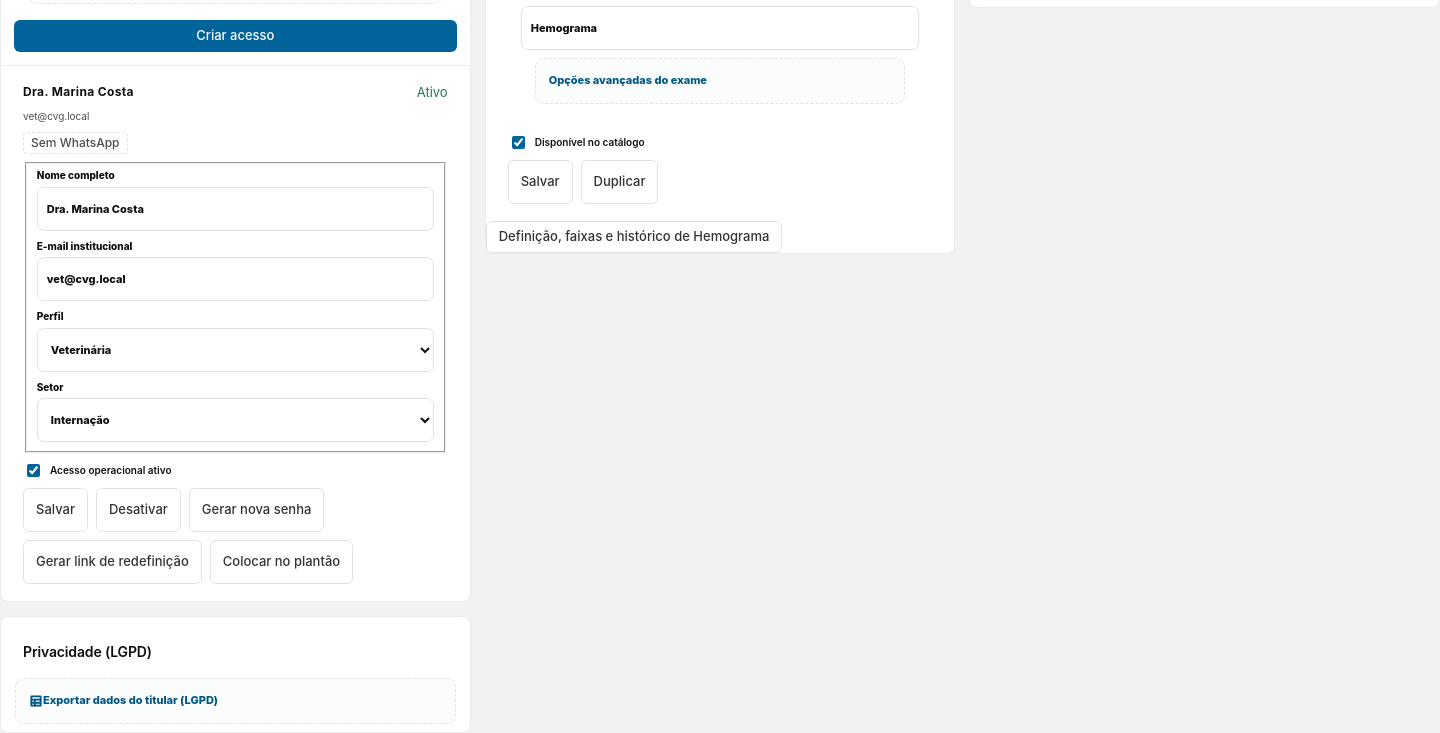
Test: AdminConsole › issues a one-time reset link, shows it once with its expiry and copies it (PROD-202)
(page scrolled)
Expected: the text "Dra. Marina Costa" is shown, [23,83,134,101]
What coordinates should you click on to do the following:
click the button "Gerar link de redefinição"
I would click on:
 (112, 562)
Its box is [23,540,202,584].
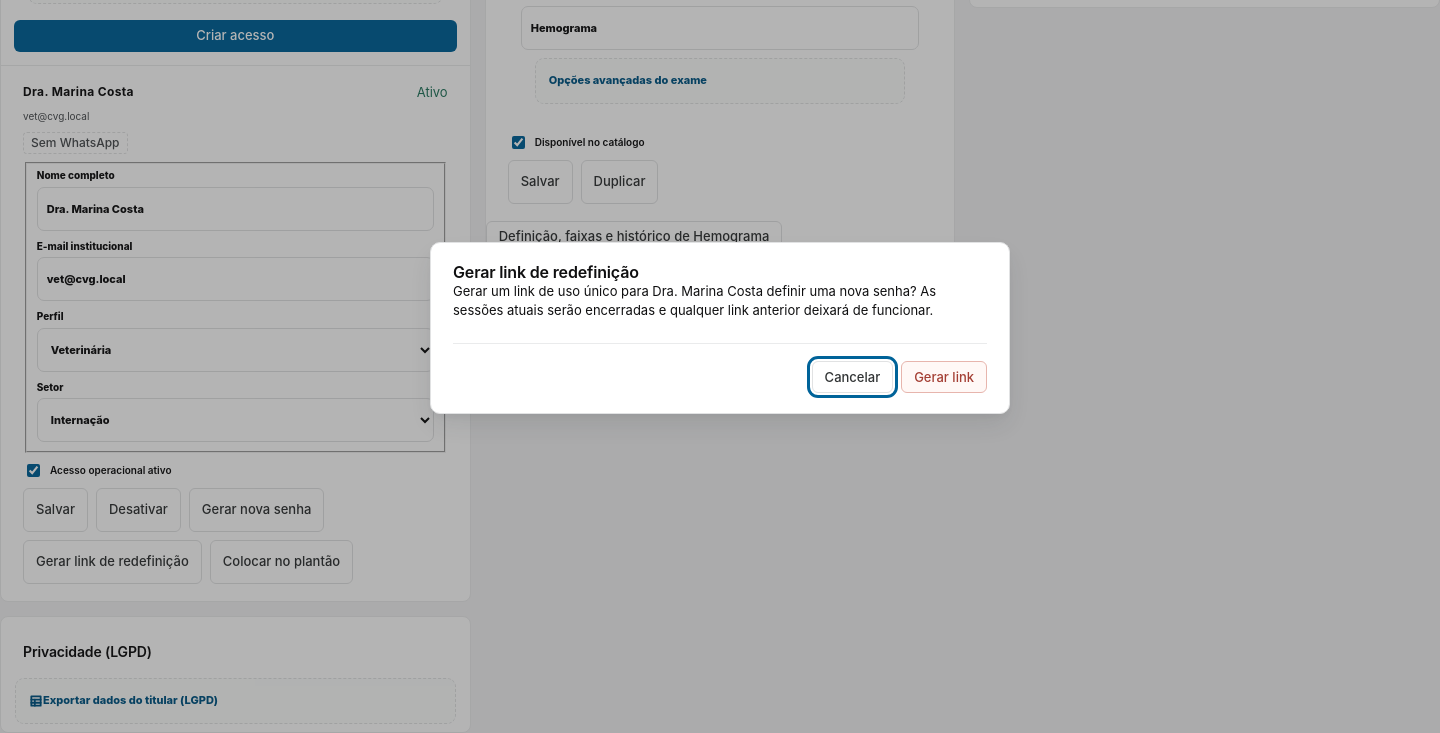
What coordinates should you click on to do the following:
click the button "Gerar link"
I would click on:
 (944, 377)
Its box is [901,361,987,393].
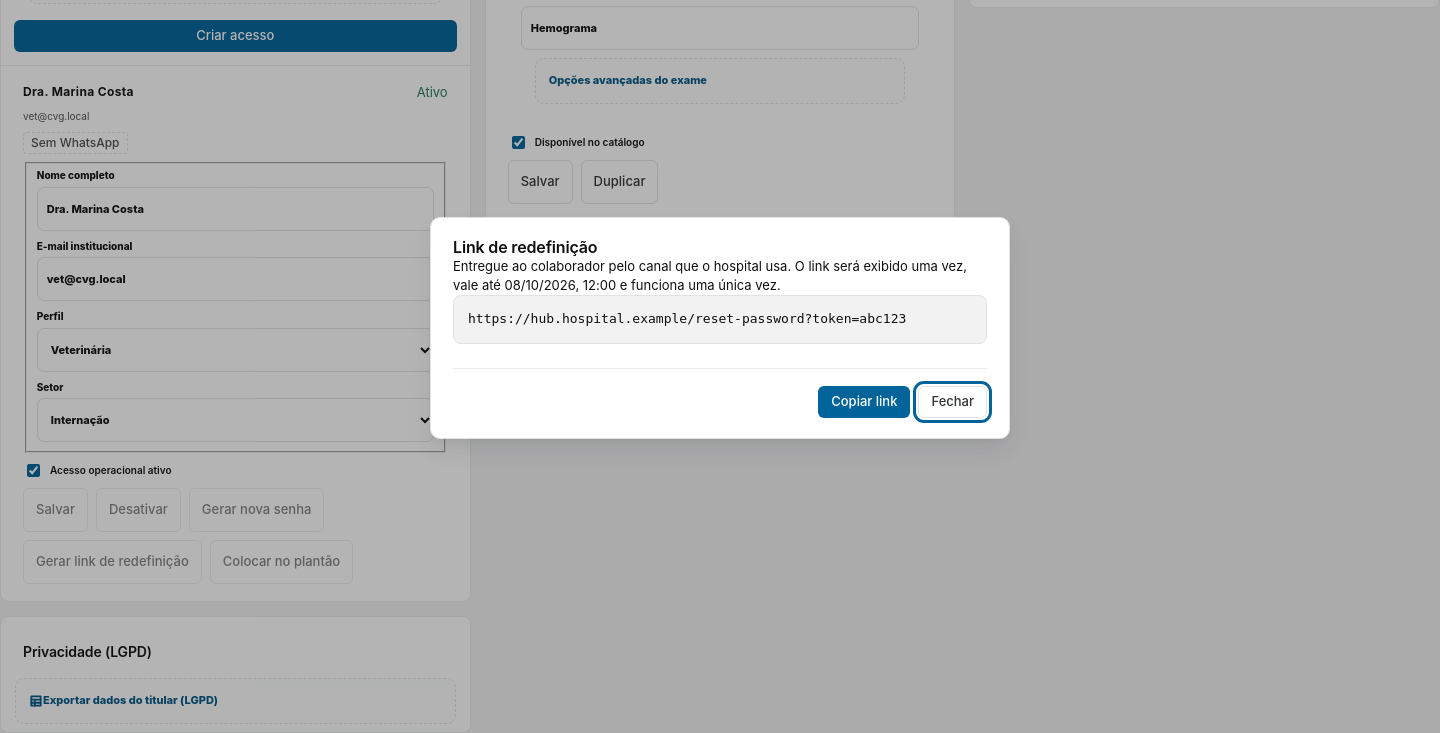
Now the text named "Link de redefinição gerado" reads "https://hub.hospital.example/reset-password?token=abc123", box [468,311,906,326]
Now the dialog "Link de redefinição" shows "uma única vez", box [616,277,781,293]
What coordinates should you click on to do the following:
click the button "Copiar link"
I would click on:
 (864, 402)
Its box is [818,386,910,418].
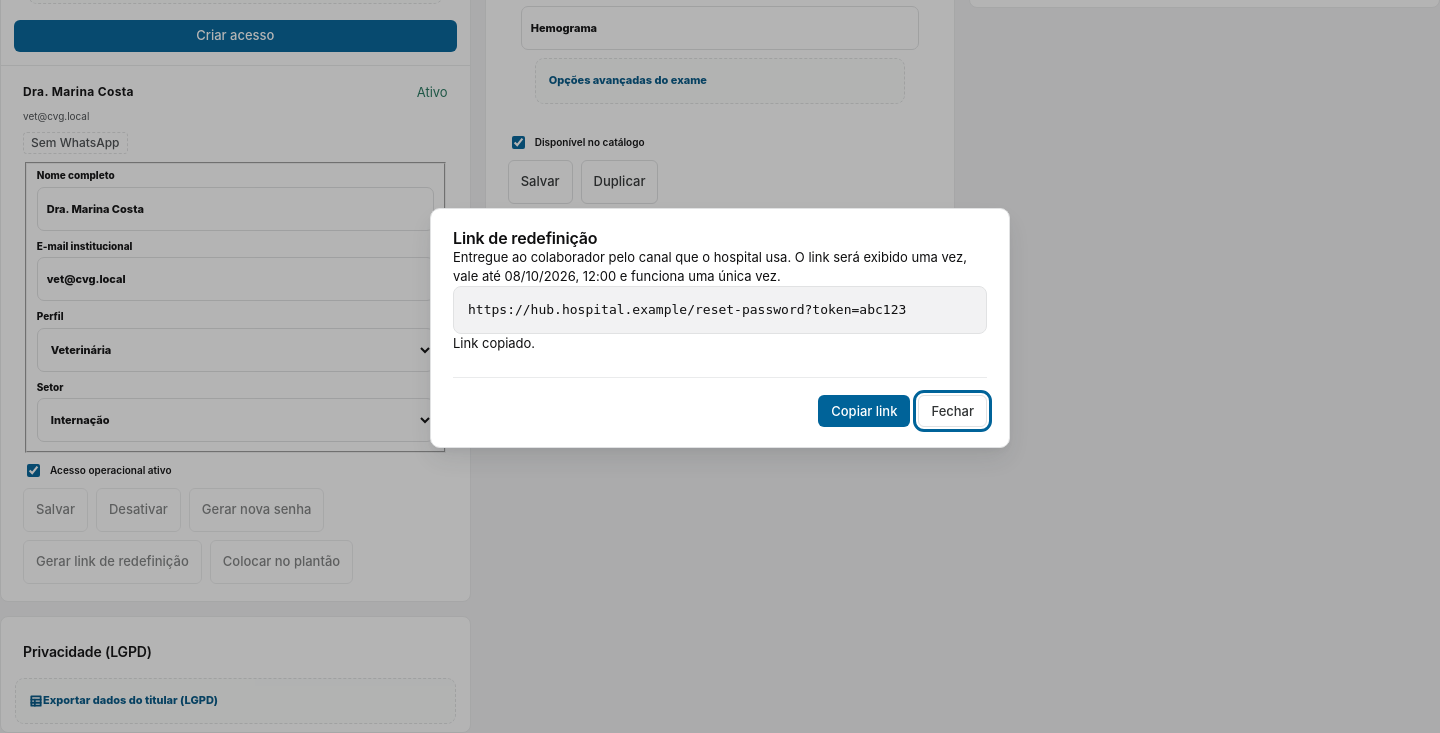
Now the text "Link copiado." is shown, box [453,335,535,351]
What coordinates should you click on to do the following:
click the button "Fechar"
I would click on:
 (953, 411)
Its box is [918,395,987,427].
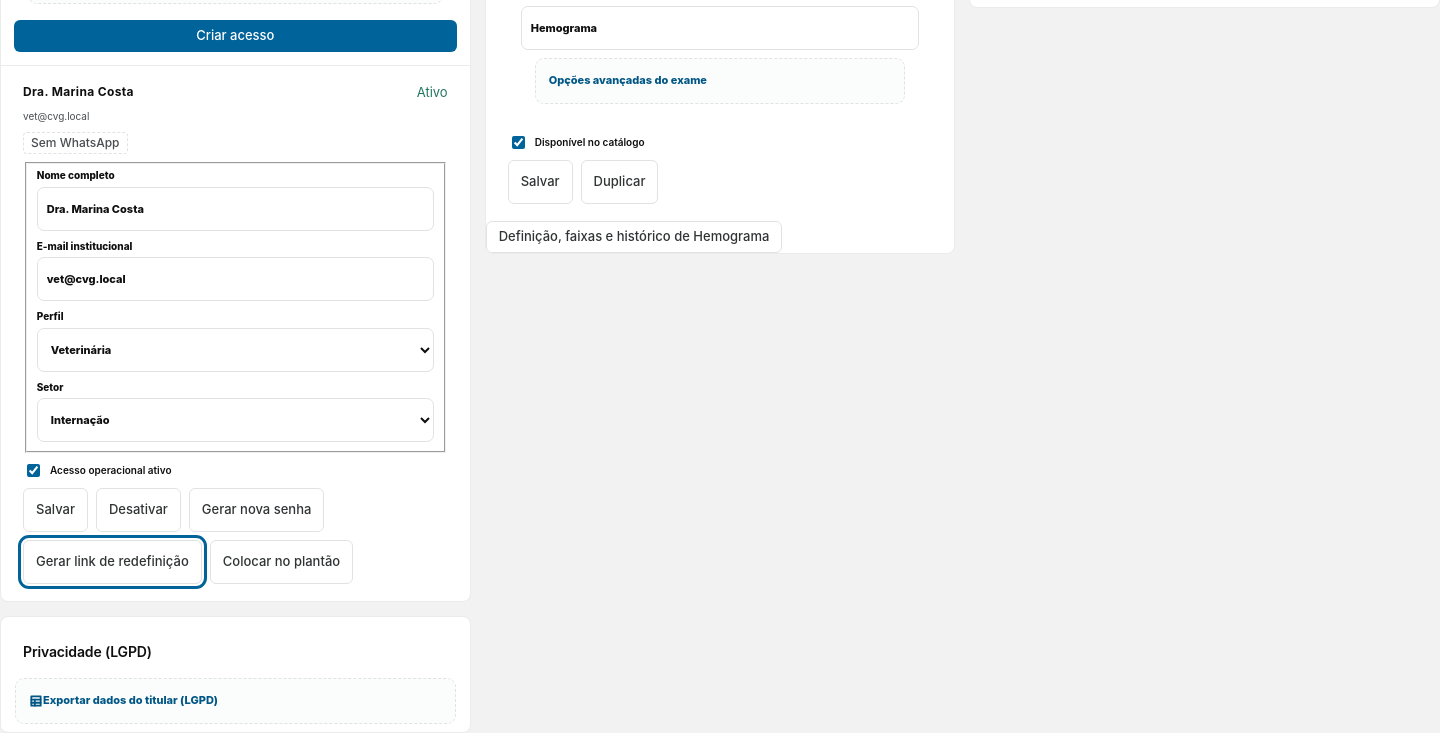
Now the text "https://hub.hospital.example/reset-password?token=abc123" is gone
